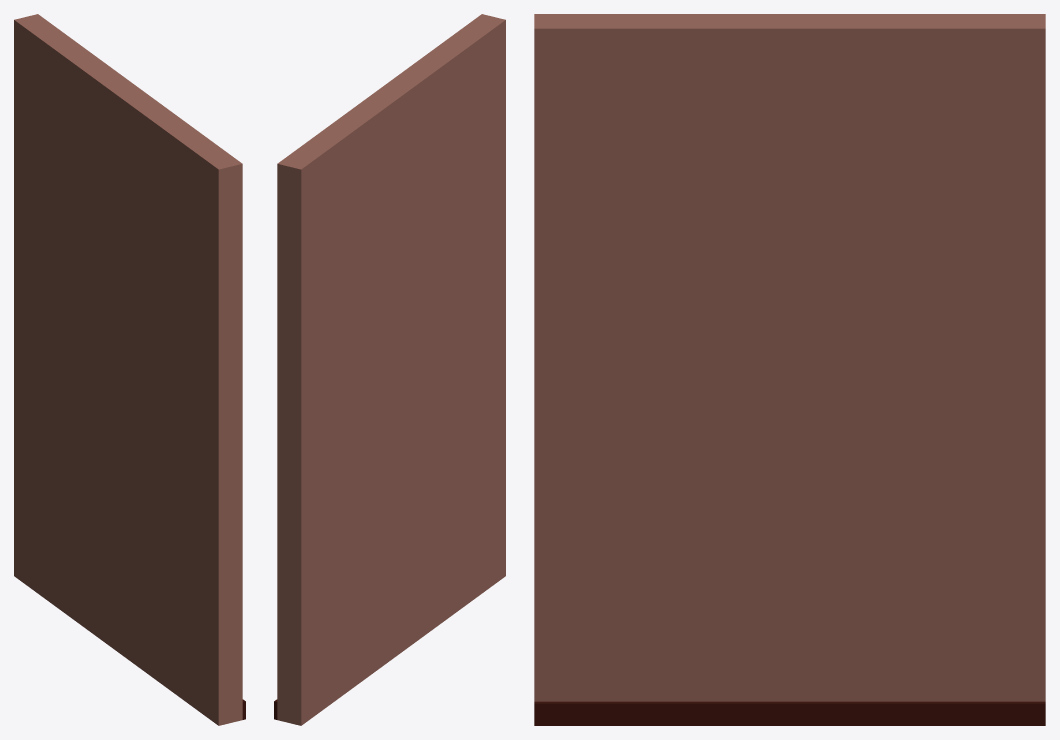
The model's file is T_MurBase_01.fbx.
3 views of the same model, side by side, from view 1: azimuth 30°, elevation 25°; view 2: azimuth 150°, elevation 25°; view 3: azimuth 270°, elevation 25° (orthographic). The views are drawn at different scales.
Visible parts, largest first — view 1: T_MurBase_01; view 2: T_MurBase_01; view 3: T_MurBase_01.
Boxes of the visible parts, x1=… form: T_MurBase_01: x1=14, y1=14, x2=245, y2=725; T_MurBase_01: x1=274, y1=14, x2=505, y2=725; T_MurBase_01: x1=534, y1=14, x2=1045, y2=725.
Size of the model in its own units: 15.31 by 300 by 200.
